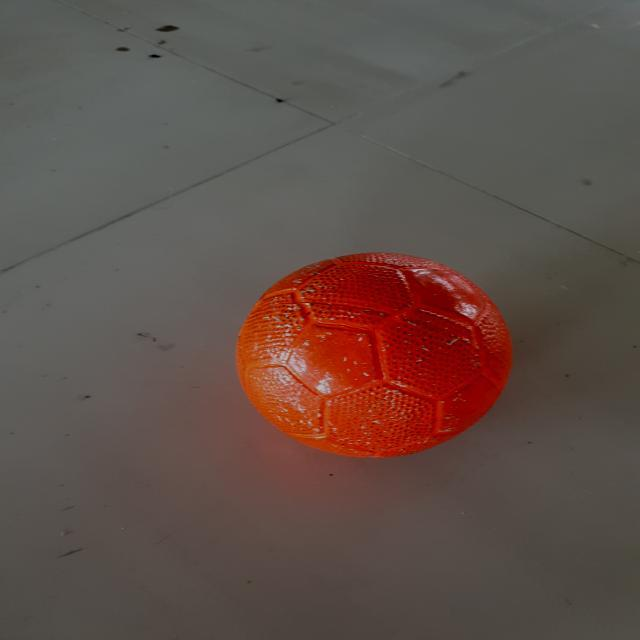bola: (225, 242, 530, 464)
